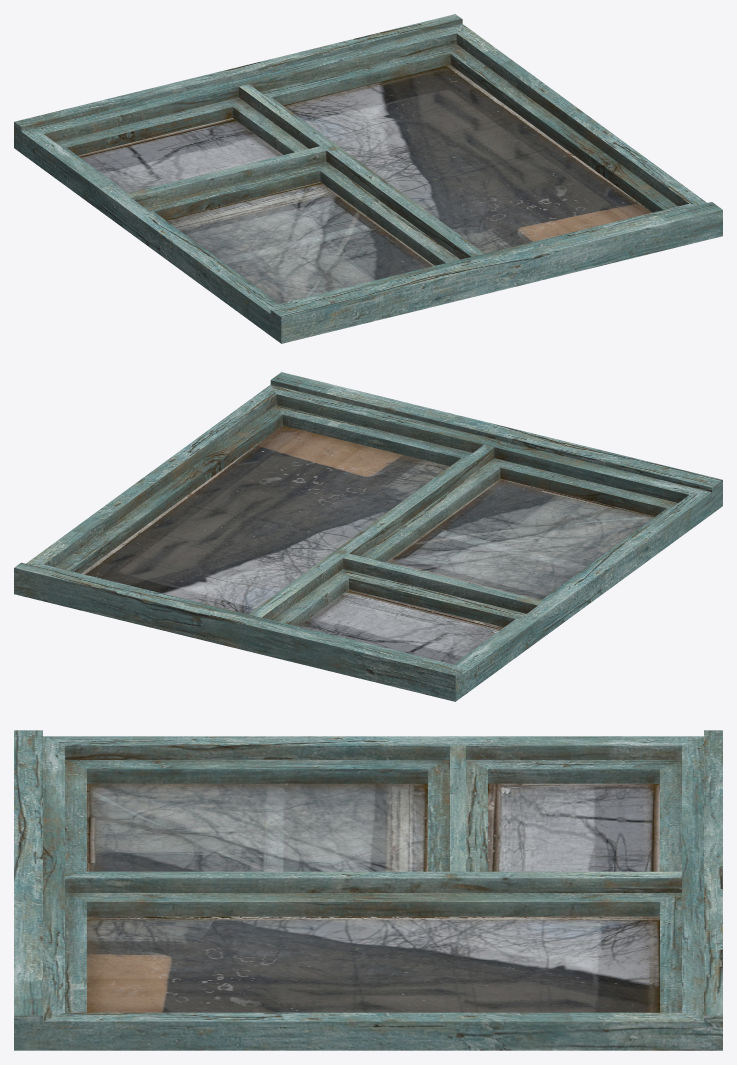
Rendered from window.glb.
3 views of the same model, one above another, from view 1: azimuth 30°, elevation 25°; view 2: azimuth 150°, elevation 25°; view 3: azimuth 270°, elevation 25° (orthographic). The views are drawn at different scales.
Parts seen in each view (by area): view 1: Object193_Material #34_0; view 2: Object193_Material #34_0; view 3: Object193_Material #34_0.
Boxes of the visible parts, x1=… form: Object193_Material #34_0: x1=14, y1=14, x2=722, y2=343; Object193_Material #34_0: x1=14, y1=372, x2=722, y2=701; Object193_Material #34_0: x1=14, y1=730, x2=722, y2=1050.
Bounding box in the file's own units: 1507 × 85.9 × 1582.
1 material, 1 textured.
